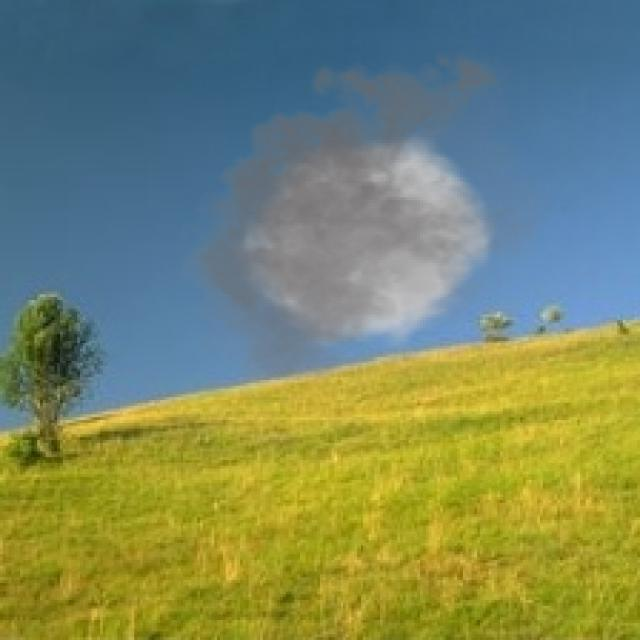Smoke: (168, 42, 563, 398)
